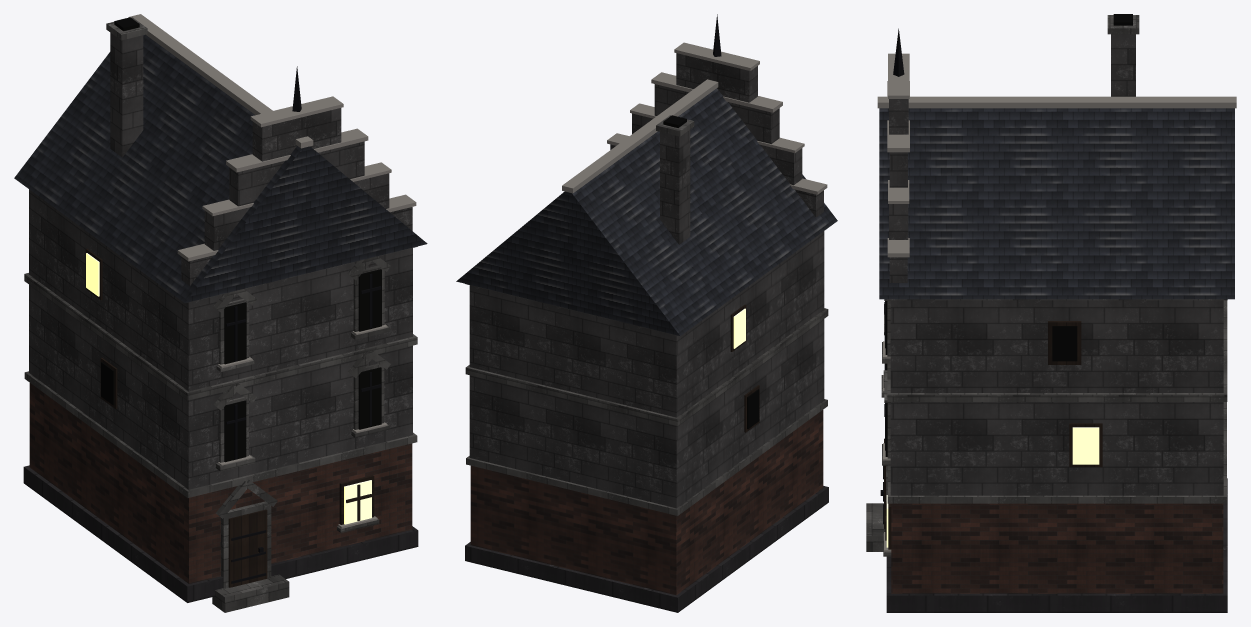
The model's file is CasaB05.gltf.
3 renders of one model, left to right at view 1: azimuth 30°, elevation 25°; view 2: azimuth 150°, elevation 25°; view 3: azimuth 270°, elevation 25°, orthographic. The views are drawn at different scales.
Visible parts, largest first — view 1: CasaB05; view 2: CasaB05; view 3: CasaB05.
Part boxes in pixels (x1,y1,x2,y2): CasaB05: (14,14,427,612); CasaB05: (456,14,837,612); CasaB05: (866,14,1236,612).
Bounding box in the file's own units: 8.3 × 16.79 × 10.52.
10 materials, 6 textured.
